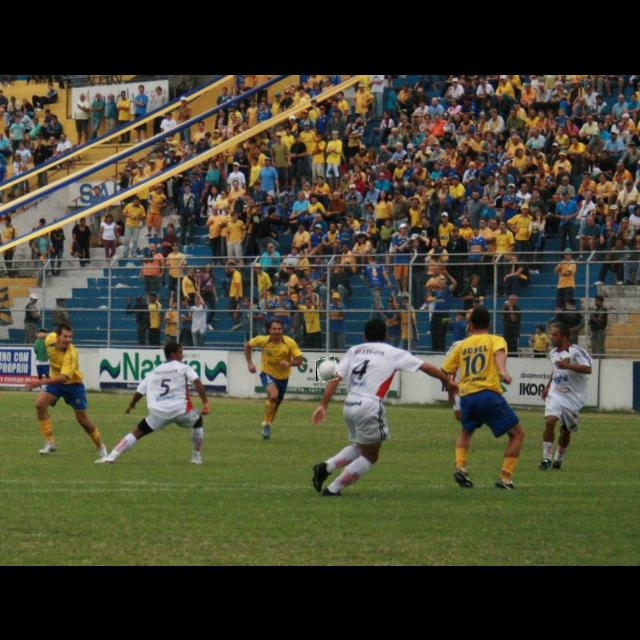Football: (316, 357, 338, 381)
